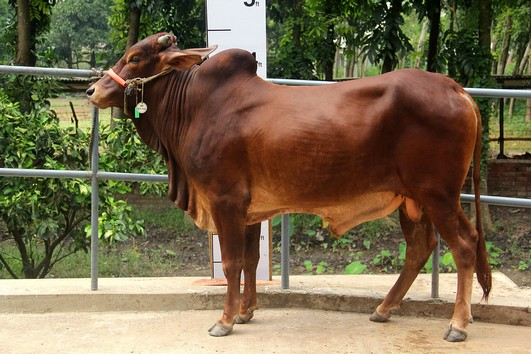cow: (81, 29, 495, 345)
